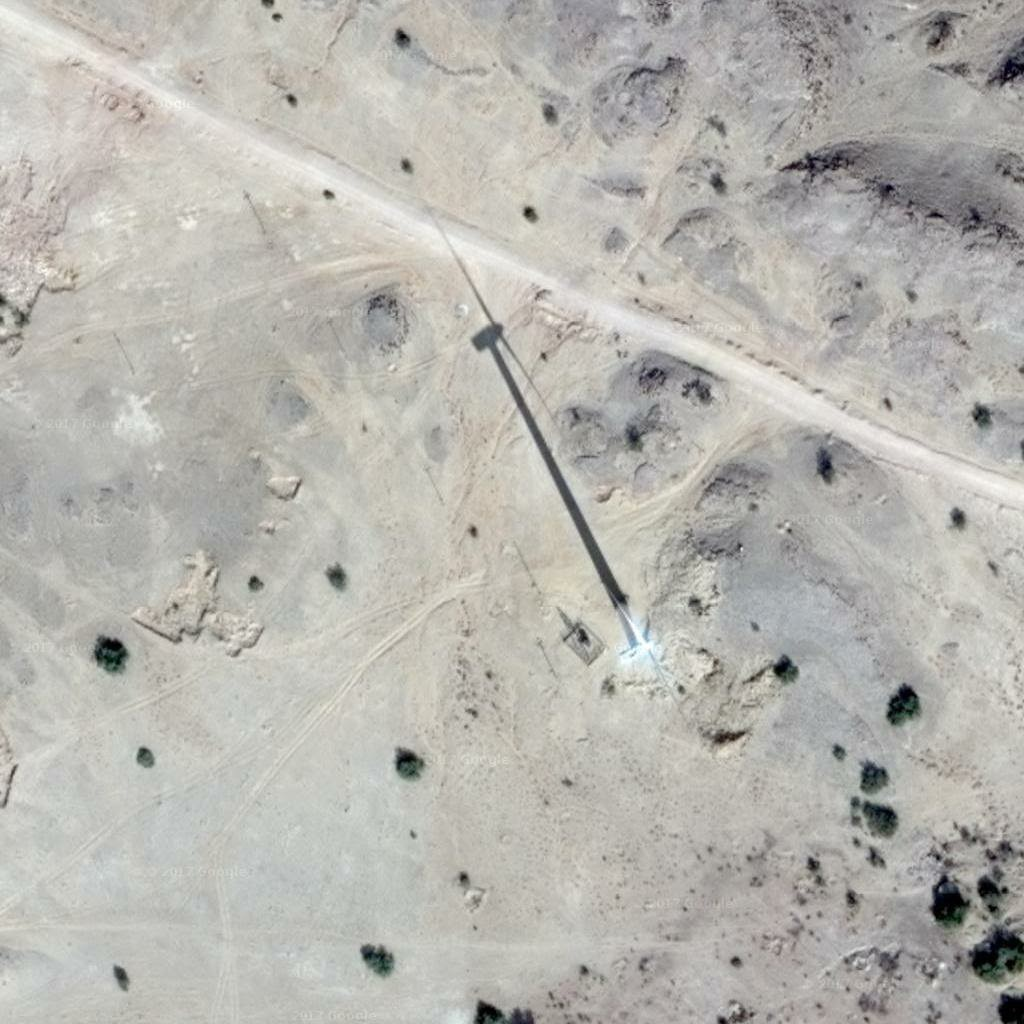Windmill: (421, 195, 639, 609)
